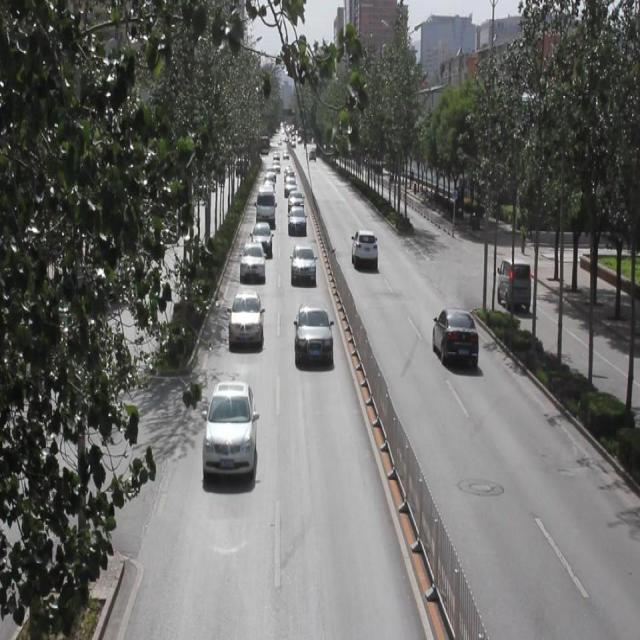car: (202, 389, 262, 488), (435, 302, 479, 377), (292, 302, 335, 363), (495, 254, 534, 321), (228, 289, 268, 349), (238, 240, 268, 281), (351, 227, 380, 267), (292, 243, 320, 283), (288, 206, 308, 237)
